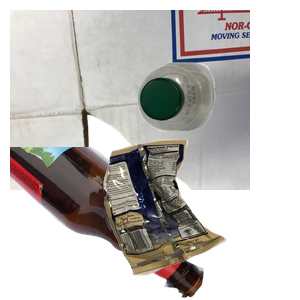cardboard: (10, 10, 250, 190)
glass: (10, 147, 207, 300)
plastic: (135, 60, 300, 184)
trash: (101, 137, 300, 300)
